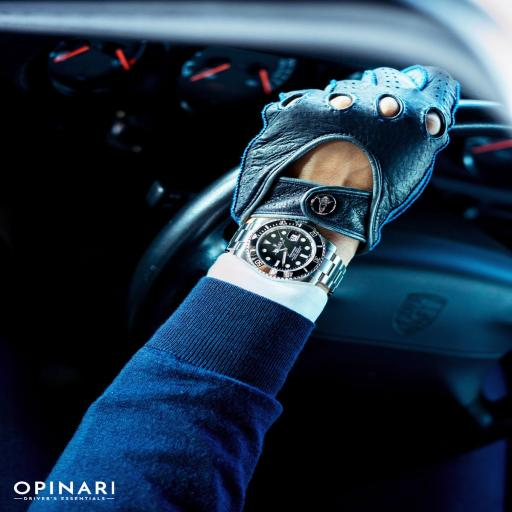Hands-on-the-Wheel: (215, 54, 474, 279)
